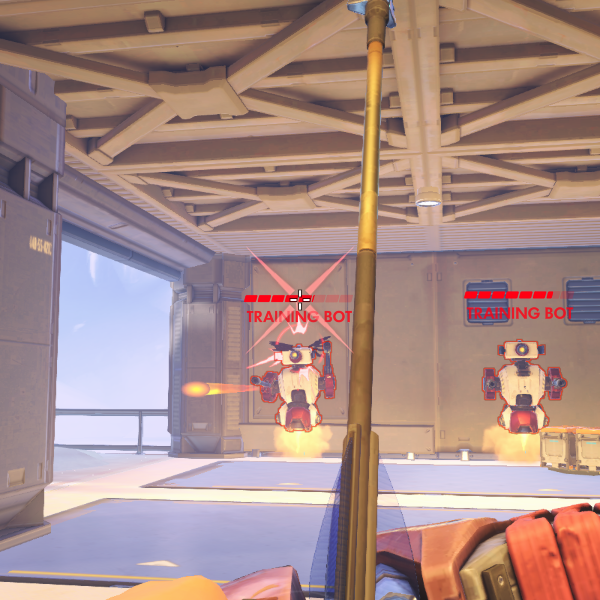hpbar: (464, 291, 575, 299), (244, 294, 352, 302)
